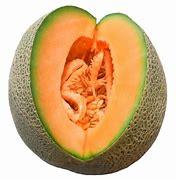Melon Ripe: (7, 5, 167, 176)
